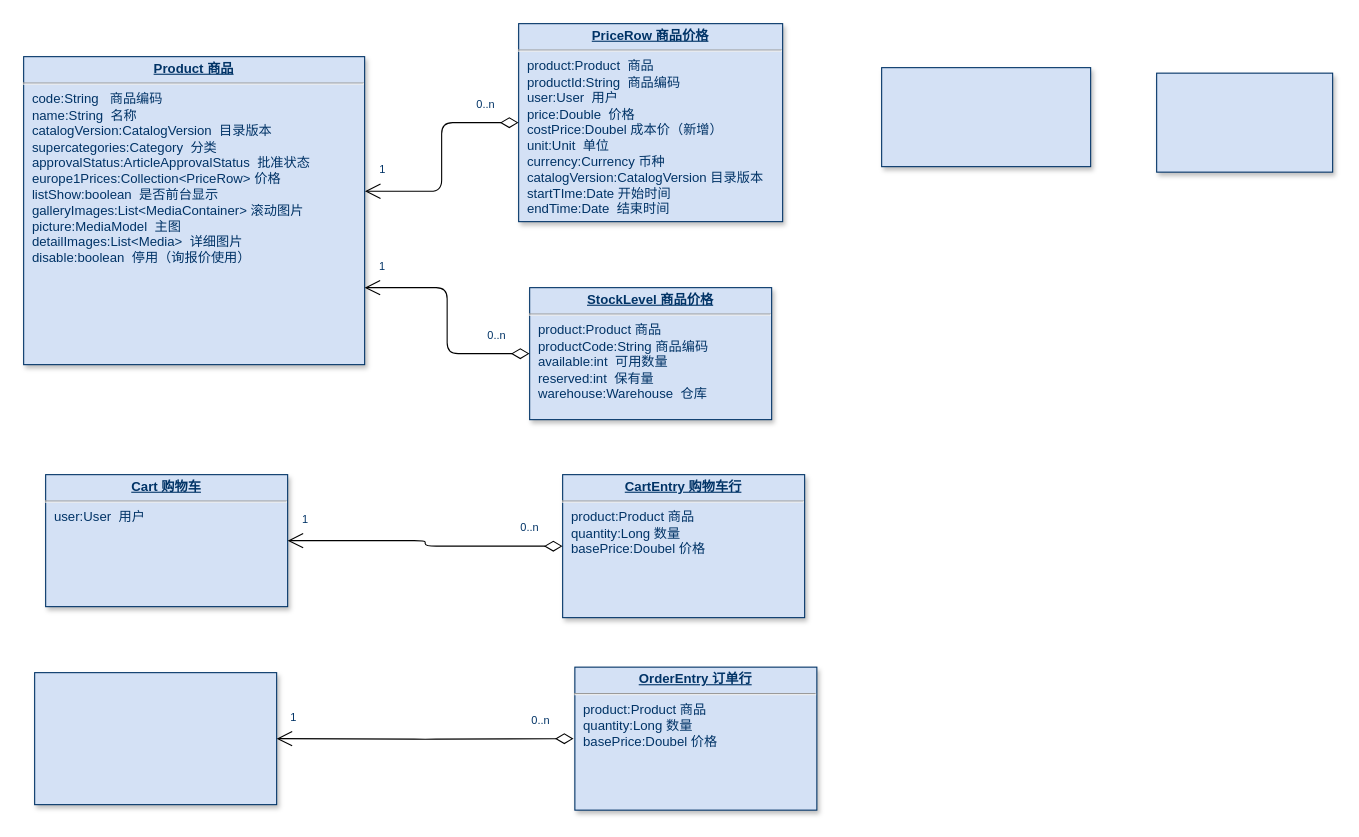
This 1359x837 diagram has some shape labels left out. Here are the shapes that lost their labels. From the top down, the centre of each, then its label:
(986,118): UserDiscount 客户折扣 user:User 客户 productCode:String 商品编码 discount:Double 折扣
(1245,124): User 用户 uid:String 用户ID name:String 用户名
(156,739): Order 订单 user:User 用户
